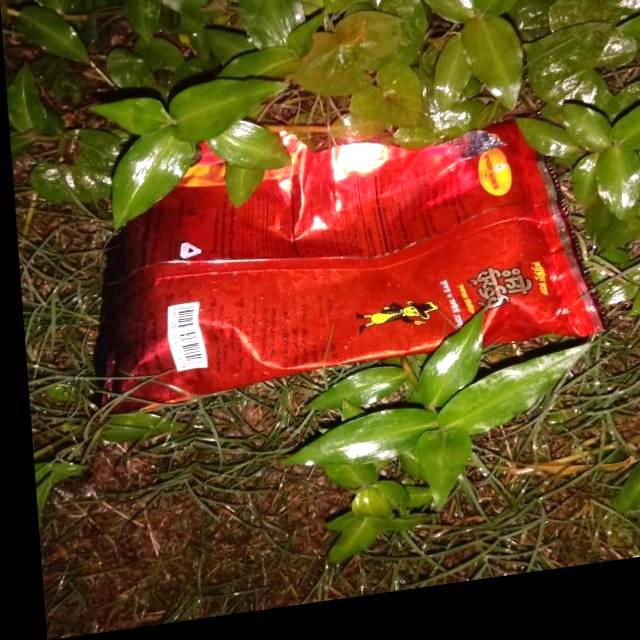packet: (76, 99, 598, 418)
